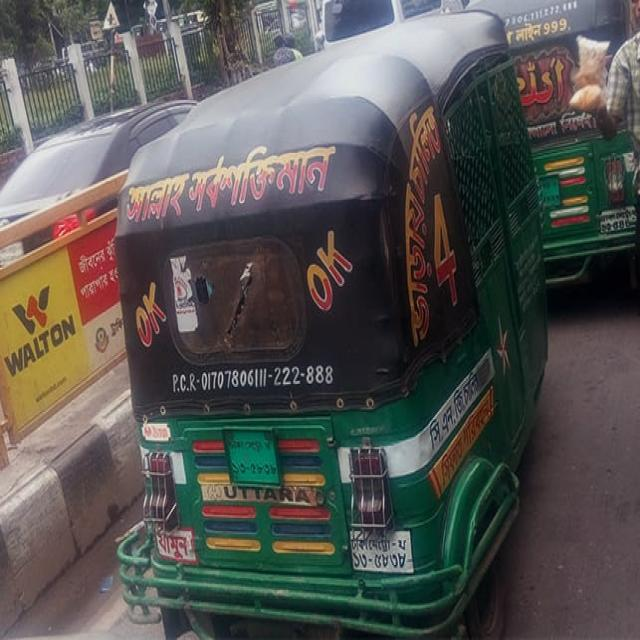CNG: (114, 15, 574, 640)
